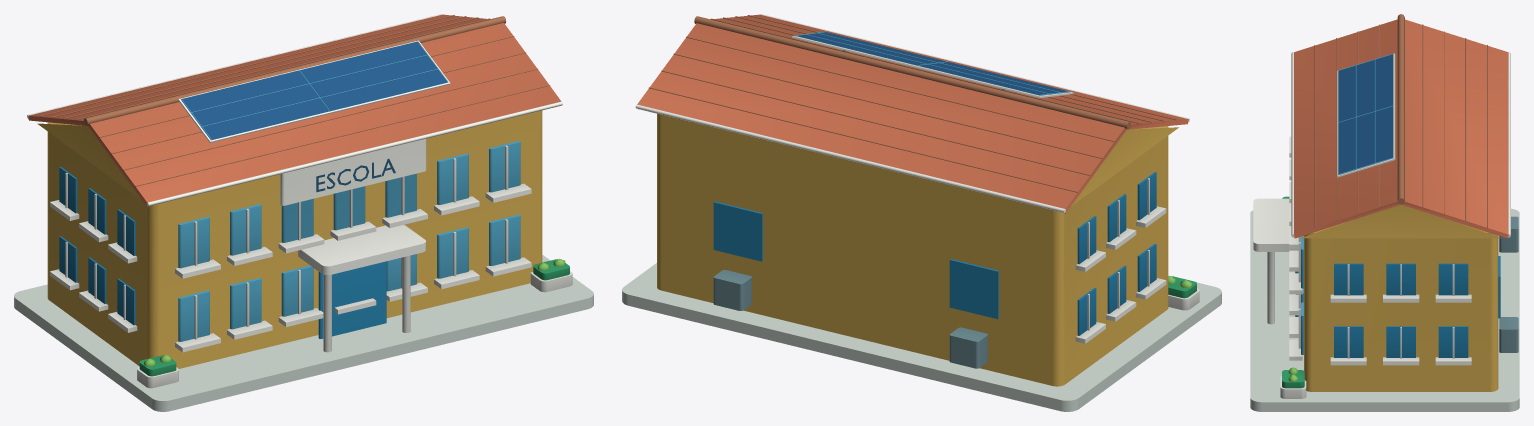
File: solar-school.glb
3 views of the same model, side by side, from view 1: azimuth 30°, elevation 25°; view 2: azimuth 150°, elevation 25°; view 3: azimuth 270°, elevation 25° (orthographic). The views are drawn at different scales.
Visible parts, largest first — view 1: school classroom wings, terracotta roof slopes, rounded rain gutter, school forecourt, solar cell division, photovoltaic cells, school entrance doors, rounded ridge cap, planter foliage, identity ESCOLA; view 2: school classroom wings, terracotta roof slopes, school forecourt, school entrance doors, rounded ridge cap, rounded rain gutter, photovoltaic cells, panel foot, solar cell division; view 3: terracotta roof slopes, school classroom wings, school forecourt, rounded rain gutter, school entrance doors, photovoltaic cells, rounded ridge cap, panel foot, solar cell division, planter foliage.
Part boxes in pixels (x1,y1,x2,y2): school classroom wings: (37, 110, 542, 368); terracotta roof slopes: (28, 14, 561, 206); rounded rain gutter: (27, 14, 572, 388); school forecourt: (14, 254, 593, 411); solar cell division: (178, 41, 520, 341); photovoltaic cells: (181, 41, 448, 140); school entrance doors: (59, 166, 386, 338); rounded ridge cap: (40, 15, 550, 186); planter foliage: (139, 259, 569, 376); identity ESCOLA: (316, 158, 395, 192); school classroom wings: (657, 113, 1178, 386); terracotta roof slopes: (637, 14, 1188, 213); school forecourt: (622, 263, 1221, 411); school entrance doors: (713, 172, 1156, 335); rounded ridge cap: (649, 15, 1176, 192); rounded rain gutter: (635, 14, 1199, 343); photovoltaic cells: (796, 32, 1069, 95); panel foot: (713, 50, 1005, 368); solar cell division: (795, 31, 1070, 95); terracotta roof slopes: (1293, 19, 1508, 238); school classroom wings: (1300, 204, 1501, 391); school forecourt: (1250, 208, 1519, 411); rounded rain gutter: (1253, 52, 1510, 398); school entrance doors: (1295, 256, 1500, 357); photovoltaic cells: (1338, 54, 1393, 174); rounded ridge cap: (1314, 14, 1487, 227); panel foot: (1499, 216, 1518, 352); solar cell division: (1301, 54, 1392, 354); planter foliage: (1282, 196, 1304, 388).
Size of the model in its own units: 8.5 by 4.29 by 5.
